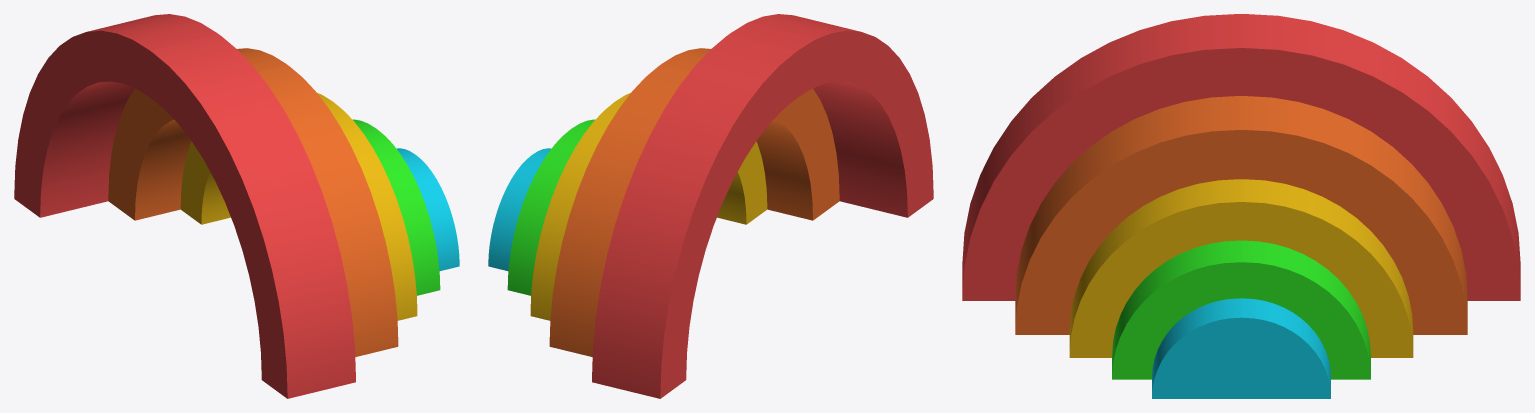
Rendered from Toy.fbx.
The picture shows the model from 3 angles, left to right: view 1: azimuth 30°, elevation 25°; view 2: azimuth 150°, elevation 25°; view 3: azimuth 270°, elevation 25°; orthographic projection. The views are drawn at different scales.
Visible parts, largest first — view 1: Cube, Cube.001, Cube.002, Cube.003, Cube.004; view 2: Cube, Cube.001, Cube.002, Cube.003, Cube.004; view 3: Cube, Cube.001, Cube.002, Cube.003, Cube.004.
Boxes of the visible parts, x1=… form: Cube: x1=14, y1=14, x2=355, y2=398; Cube.001: x1=108, y1=48, x2=398, y2=356; Cube.002: x1=180, y1=93, x2=417, y2=320; Cube.003: x1=353, y1=119, x2=440, y2=295; Cube.004: x1=397, y1=148, x2=459, y2=270; Cube: x1=592, y1=14, x2=933, y2=398; Cube.001: x1=549, y1=48, x2=839, y2=356; Cube.002: x1=530, y1=93, x2=767, y2=320; Cube.003: x1=507, y1=119, x2=594, y2=295; Cube.004: x1=488, y1=148, x2=550, y2=270; Cube: x1=962, y1=14, x2=1520, y2=300; Cube.001: x1=1015, y1=96, x2=1467, y2=334; Cube.002: x1=1069, y1=179, x2=1413, y2=357; Cube.003: x1=1112, y1=240, x2=1370, y2=379; Cube.004: x1=1152, y1=298, x2=1330, y2=398.
Bounding box in the file's own units: 112 × 100 × 200.
